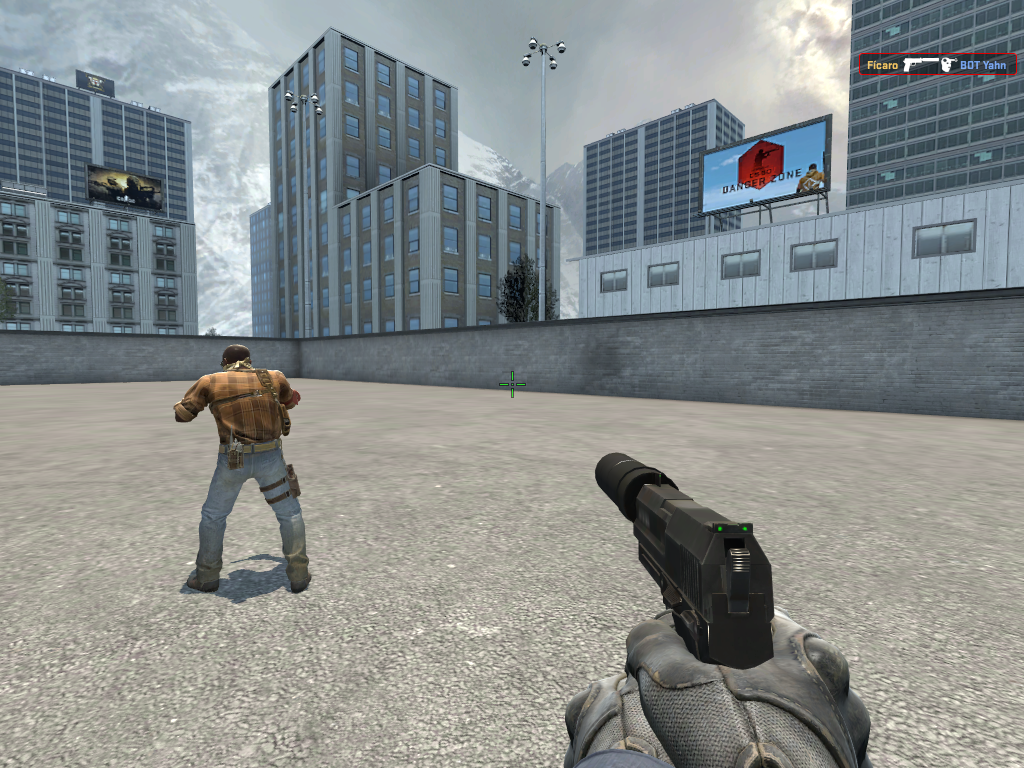tr head: (219, 343, 253, 377)
